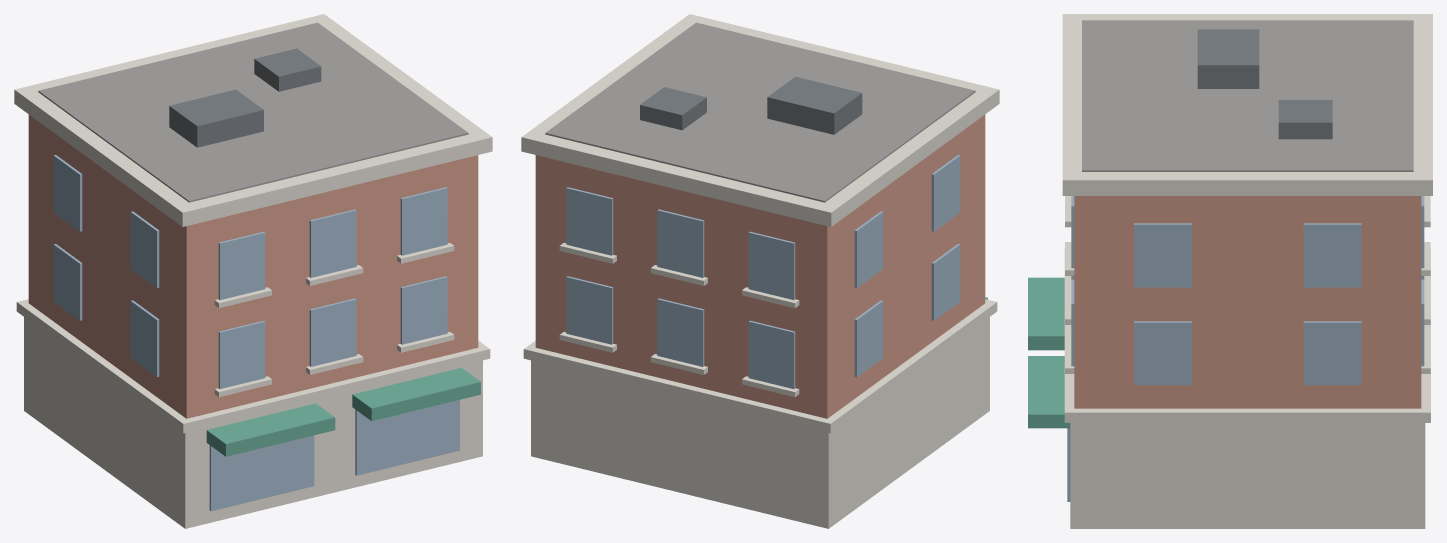
Rendered from bldg_brick_midrise.glb.
3 renders of one model, left to right at view 1: azimuth 30°, elevation 25°; view 2: azimuth 150°, elevation 25°; view 3: azimuth 270°, elevation 25°, orthographic. The views are drawn at different scales.
Visible parts, largest first — view 1: bldg_brick_midrise; view 2: bldg_brick_midrise; view 3: bldg_brick_midrise.
Part boxes in pixels (x1,y1,x2,y2): bldg_brick_midrise: (14,14,492,528); bldg_brick_midrise: (521,14,999,528); bldg_brick_midrise: (1028,14,1432,528).
Bounding box in the file's own units: 10.2 × 10.8 × 10.5.
